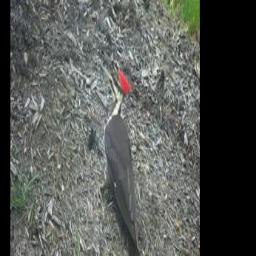Woodpecker: (95, 57, 146, 256)
